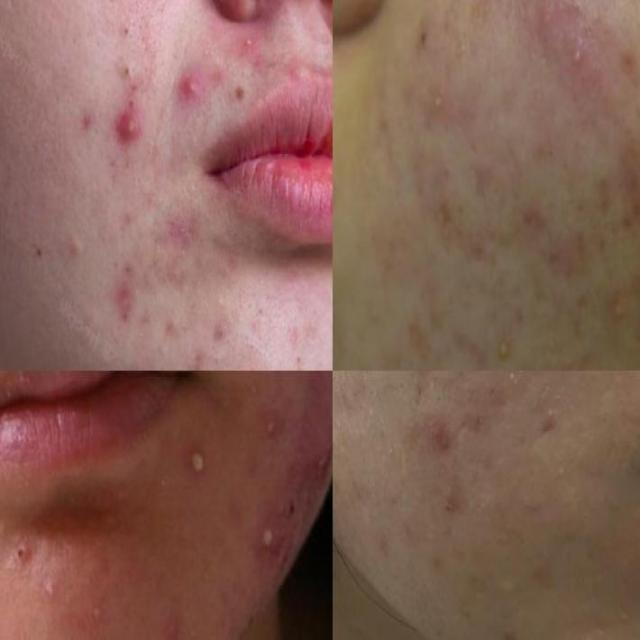8: (415, 400, 461, 475), (106, 260, 143, 331), (75, 583, 114, 640), (522, 0, 560, 49), (564, 34, 590, 80), (36, 561, 62, 607), (72, 103, 97, 139), (207, 316, 235, 345), (206, 345, 228, 371)
9: (109, 90, 152, 152), (171, 63, 210, 113), (256, 510, 287, 566), (250, 405, 281, 459), (184, 440, 214, 490), (236, 20, 262, 63)
blackheads: (278, 395, 332, 502), (535, 228, 598, 290), (615, 146, 640, 248)
dark spot: (113, 6, 146, 49), (113, 58, 147, 91), (238, 324, 263, 362), (287, 346, 311, 371)
